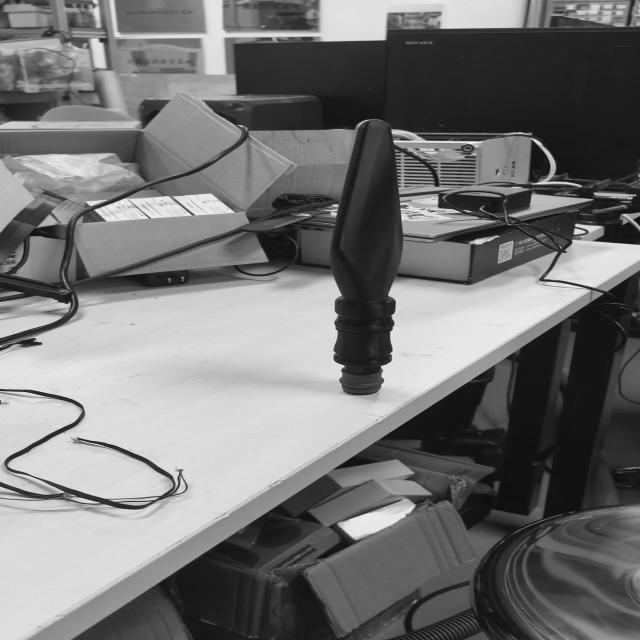base: (340, 369, 386, 394)
